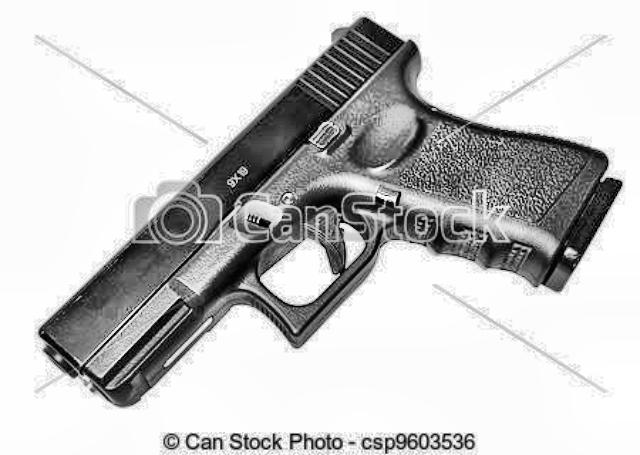pistol: (38, 14, 622, 416)
